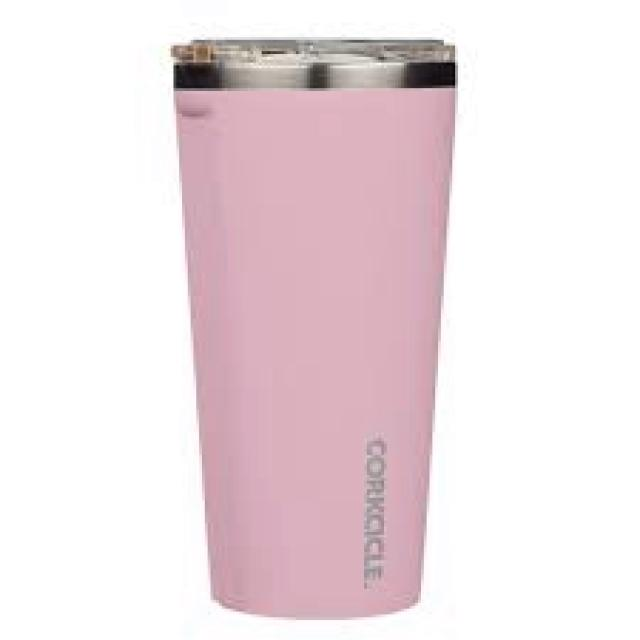bottle: (168, 25, 457, 617)
